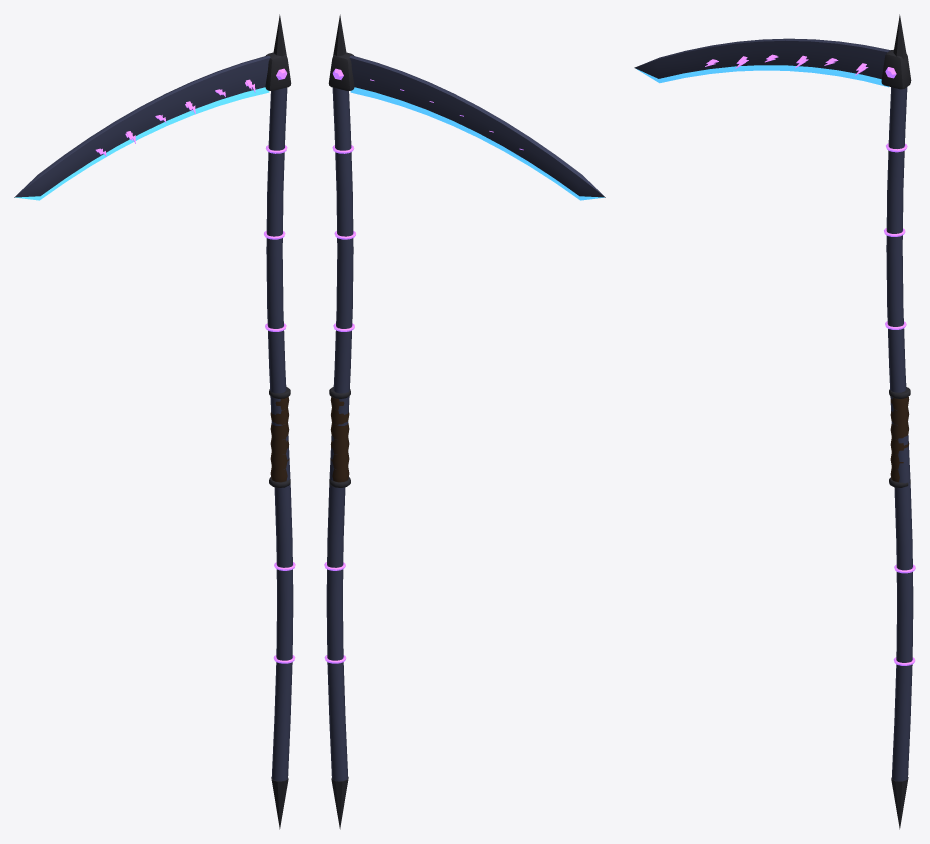
Rendered from storm_scythe.glb.
3 views of the same model, side by side, from view 1: azimuth 30°, elevation 25°; view 2: azimuth 150°, elevation 25°; view 3: azimuth 330°, elevation 25° (orthographic).
Parts seen in each view (by area): view 1: storm_scythe; view 2: storm_scythe; view 3: storm_scythe.
Boxes of the visible parts, x1,y1,x2,y2 form: storm_scythe: [14, 14, 295, 829]; storm_scythe: [324, 14, 605, 829]; storm_scythe: [634, 14, 915, 829].
Size of the model in its own units: 0.7911 by 2.2 by 0.0881.
